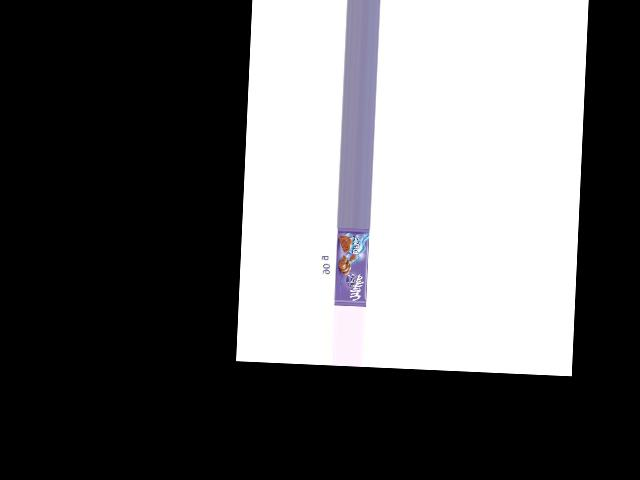chocolate: (334, 227, 369, 305)
